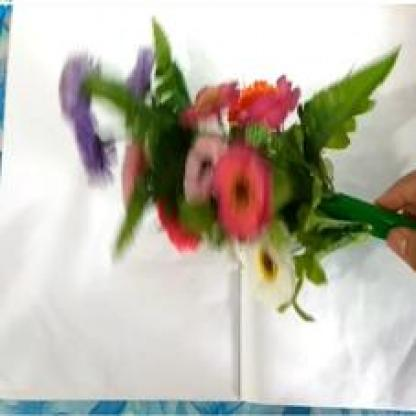flower: (47, 17, 384, 340)
